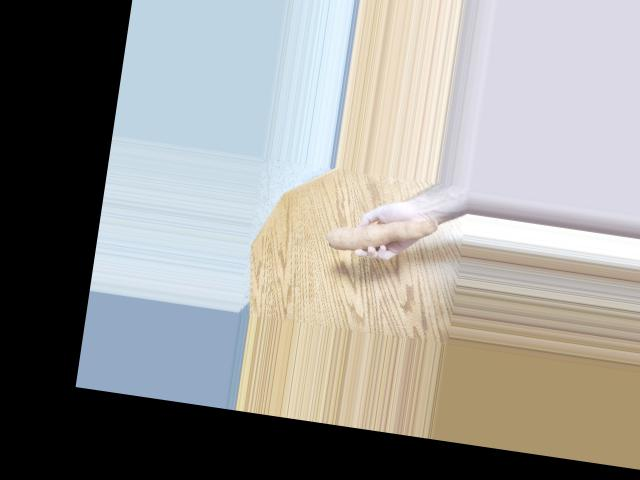sweet_potato: (330, 210, 432, 265)
